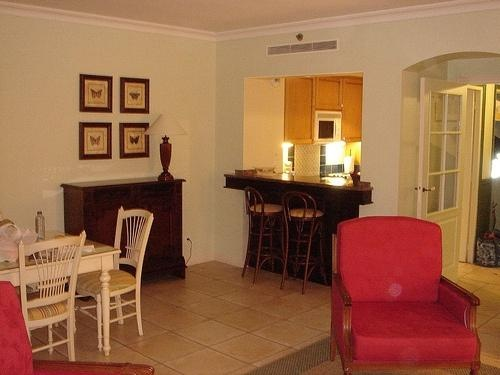bottle: (35, 210, 46, 239)
chair: (331, 216, 482, 375), (1, 282, 156, 375), (75, 208, 157, 338), (20, 233, 86, 365), (281, 192, 329, 296), (240, 188, 282, 287)
diningtable: (1, 234, 121, 356)
